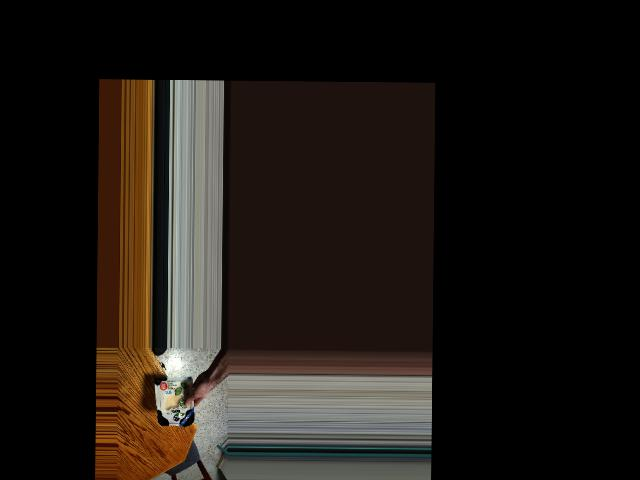cheese: (154, 367, 193, 434)
